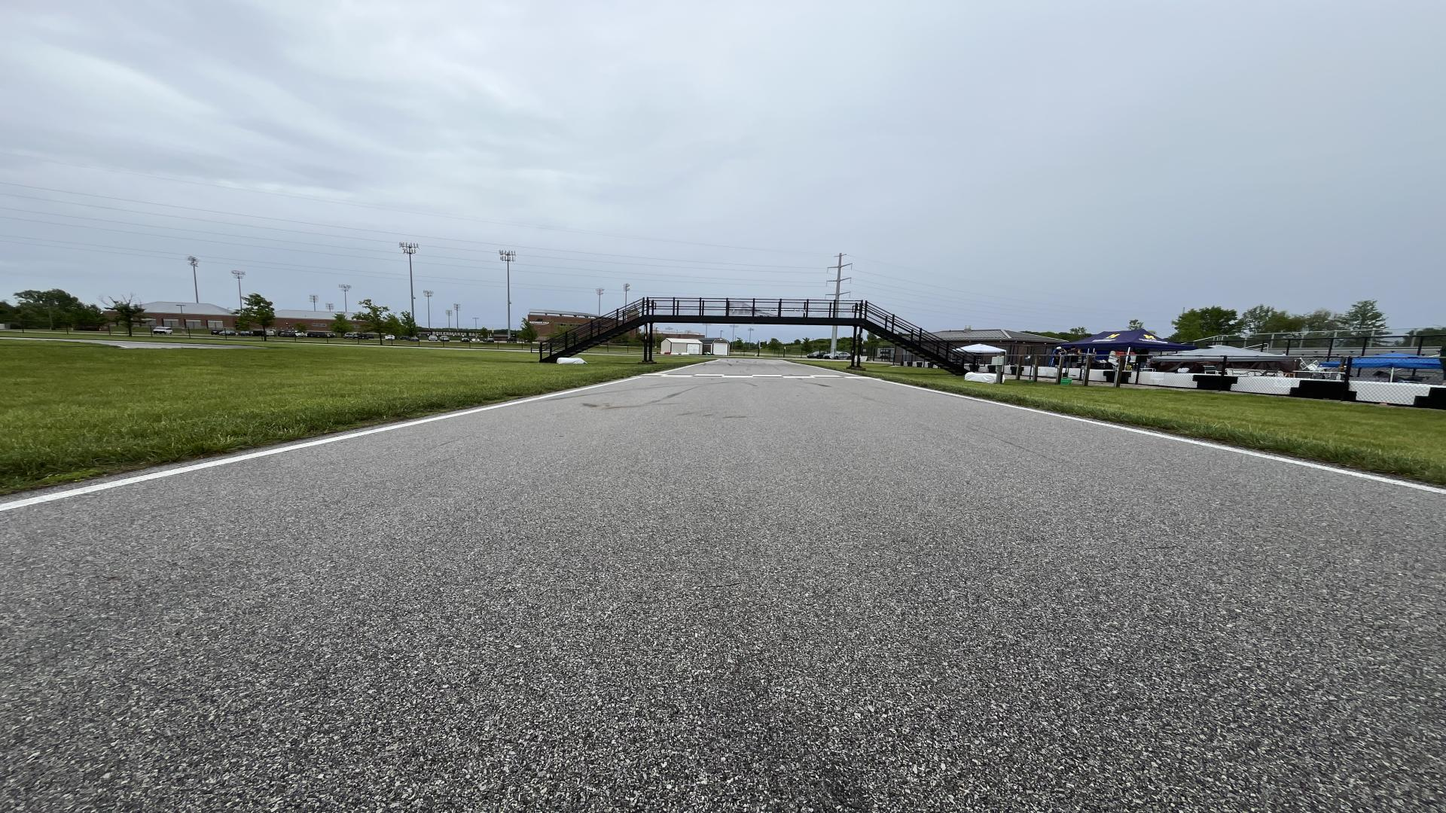white-line: (0, 379, 629, 512), (874, 379, 1445, 494), (779, 360, 858, 376), (656, 361, 715, 374)
